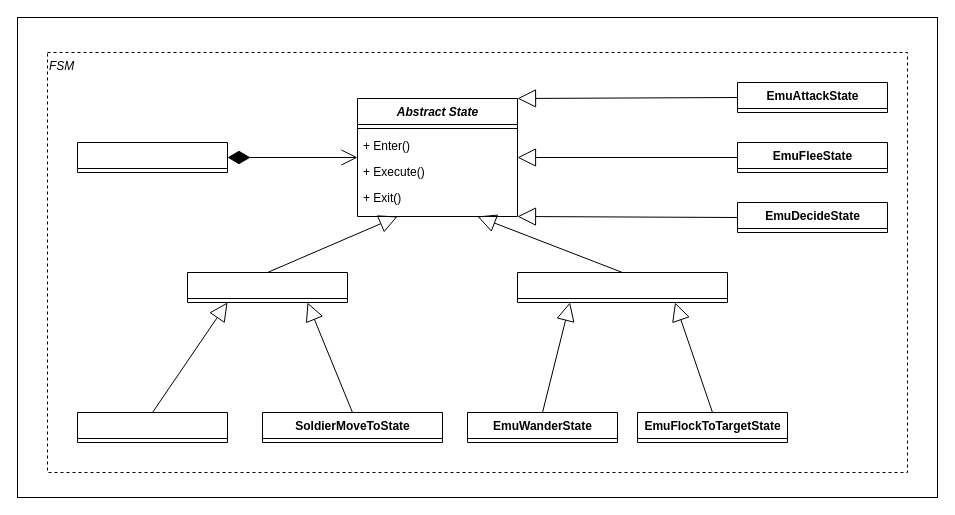
Some shapes in this 955 by 515 pixel diagram are drawn without their labels. Each missing label, with the centre of its shape:
"Abstract EmuMovementState" goes at point (622, 287).
"Abstract SoldierState" goes at point (267, 287).
"SoldierFollowLeaderState" goes at point (152, 427).
"StateMachine : MB" goes at point (152, 157).
